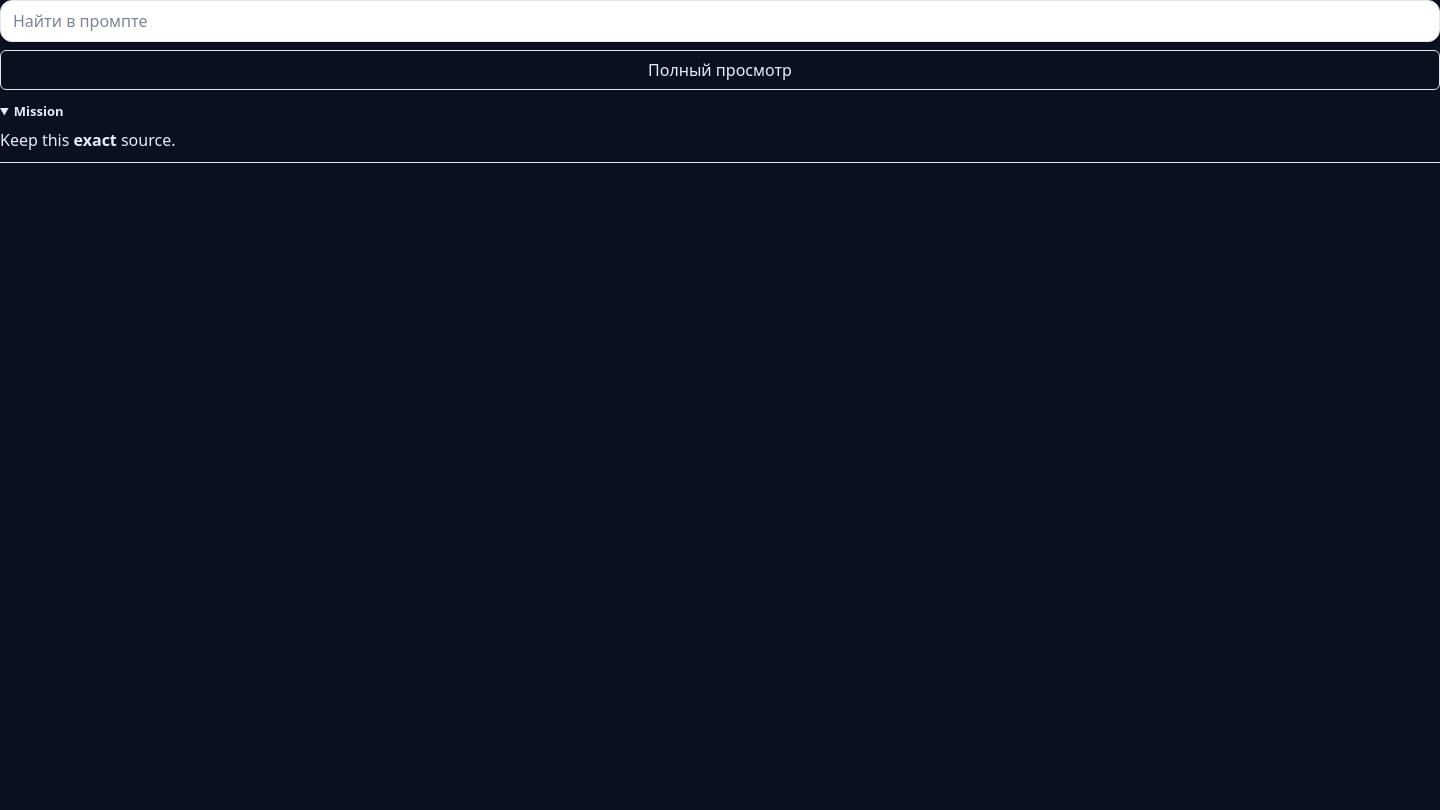
Scenario: PromptViewer › provides a titled full view with the exact original prompt text
The image size is (1440, 810).
Later steps or results of the test are not shown.
Click the button "Полный просмотр". click: x=720, y=70
box: [0, 50, 1439, 90]
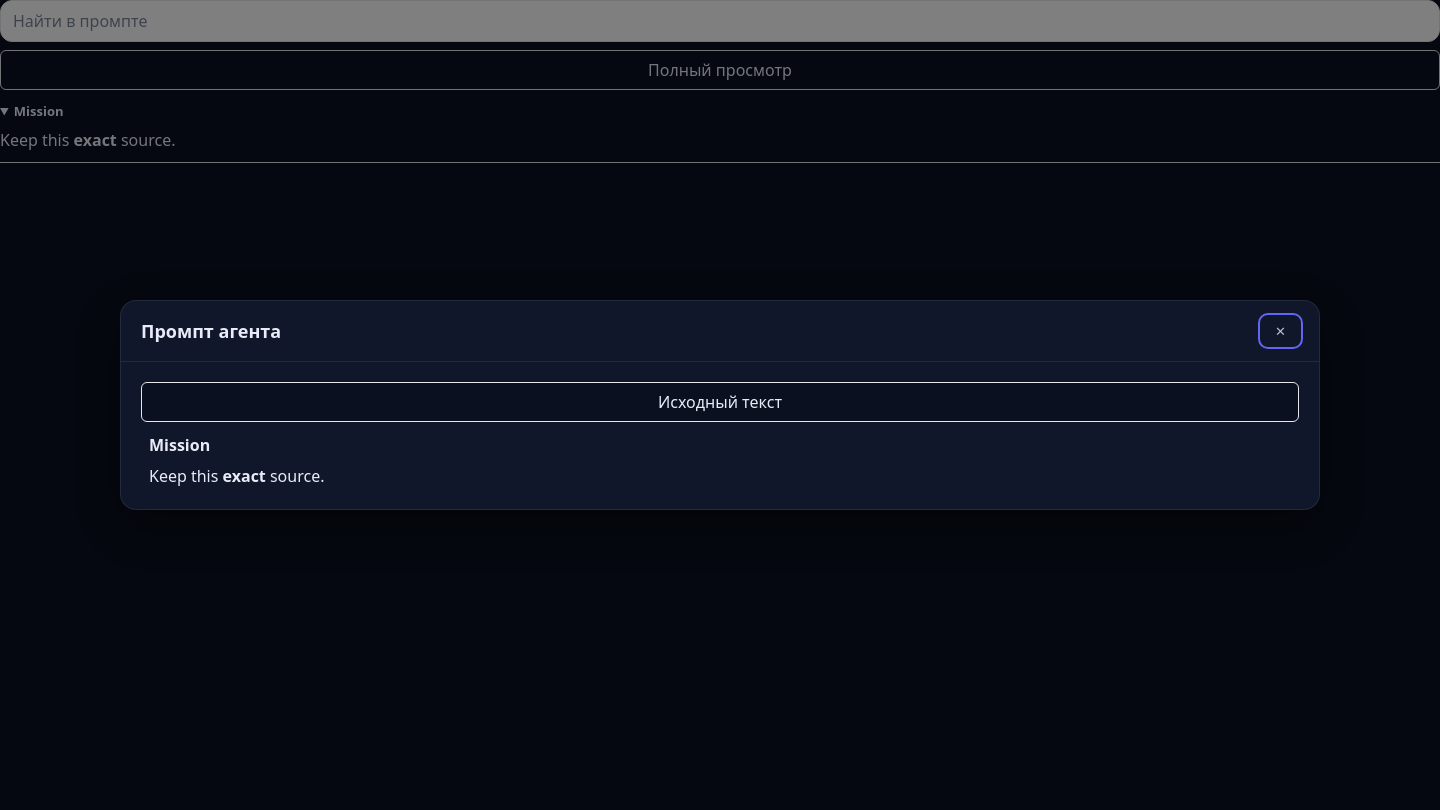
Expected: the text "Промпт агента" is shown, [141, 319, 281, 343]
